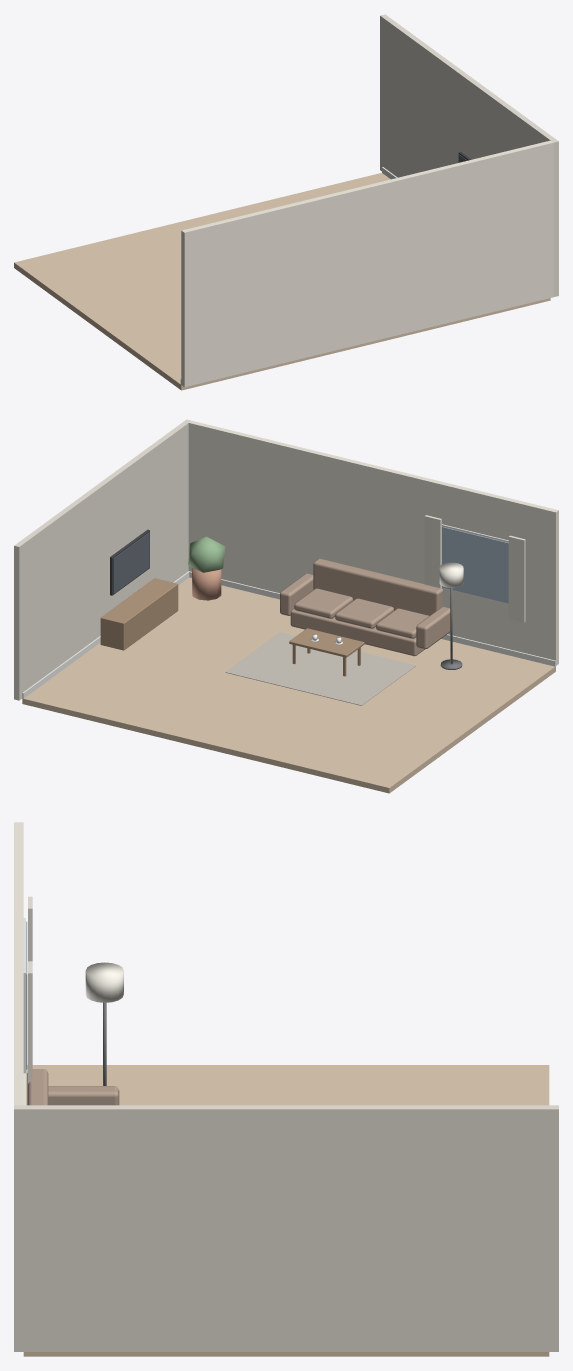
Rendered from salida.casa.fbx.
3 renders of one model, top to bottom at view 1: azimuth 30°, elevation 25°; view 2: azimuth 150°, elevation 25°; view 3: azimuth 270°, elevation 25°, orthographic. The views are drawn at different scales.
Visible parts, largest first — view 1: Muro del fondo, Piso, Muro lateral; view 2: Piso, Muro del fondo, Muro lateral, Alfombra, Respaldo, Vidrio, Mueble de la tele, Base del sillón, Cortina.001, Pantalla, Cortina, Zócalo (+10 smaller); view 3: Muro lateral, Piso, Muro del fondo, Pantalla de la lámpara, Brazo.001, Respaldo.
Boxes of the visible parts, left/top/right/bottom form: Muro del fondo: left=181, top=140, right=553, bottom=387; Piso: left=14, top=173, right=550, bottom=390; Muro lateral: left=380, top=14, right=558, bottom=296; Piso: left=22, top=577, right=555, bottom=793; Muro del fondo: left=188, top=421, right=558, bottom=665; Muro lateral: left=14, top=419, right=191, bottom=700; Alfombra: left=225, top=632, right=415, bottom=705; Respaldo: left=313, top=558, right=443, bottom=615; Vidrio: left=442, top=526, right=508, bottom=603; Mueble de la tele: left=100, top=578, right=178, bottom=650; Base del sillón: left=290, top=608, right=424, bottom=656; Cortina.001: left=508, top=535, right=525, bottom=622; Pantalla: left=113, top=532, right=149, bottom=593; Cortina: left=424, top=515, right=441, bottom=588; Zócalo: left=189, top=571, right=555, bottom=666; Muro lateral: left=14, top=1105, right=558, bottom=1351; Piso: left=23, top=1065, right=549, bottom=1356; Muro del fondo: left=14, top=822, right=23, bottom=1105; Pantalla de la lámpara: left=85, top=962, right=123, bottom=1002; Brazo.001: left=48, top=1086, right=119, bottom=1105; Respaldo: left=27, top=1069, right=48, bottom=1105.
Size of the model in its own units: 7.1 by 2.9 by 5.7.
